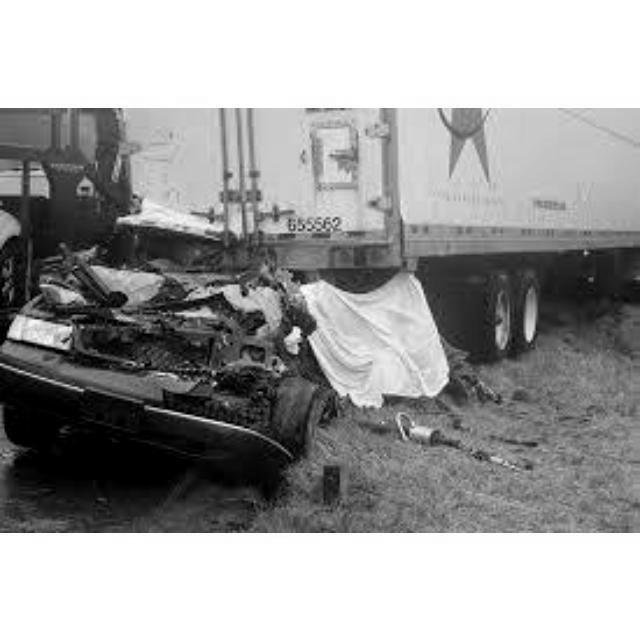rear-bumper-dent: (5, 366, 249, 428)
